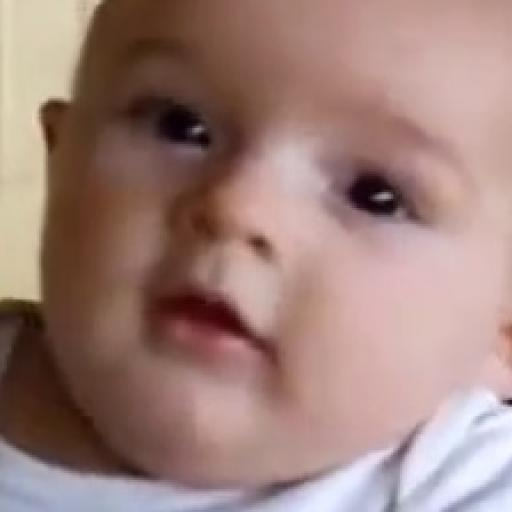Autism: (56, 12, 512, 494)
